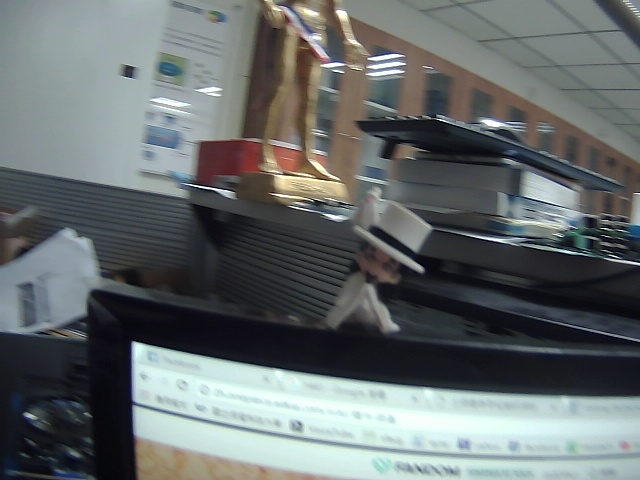lucci: (316, 182, 443, 351)
